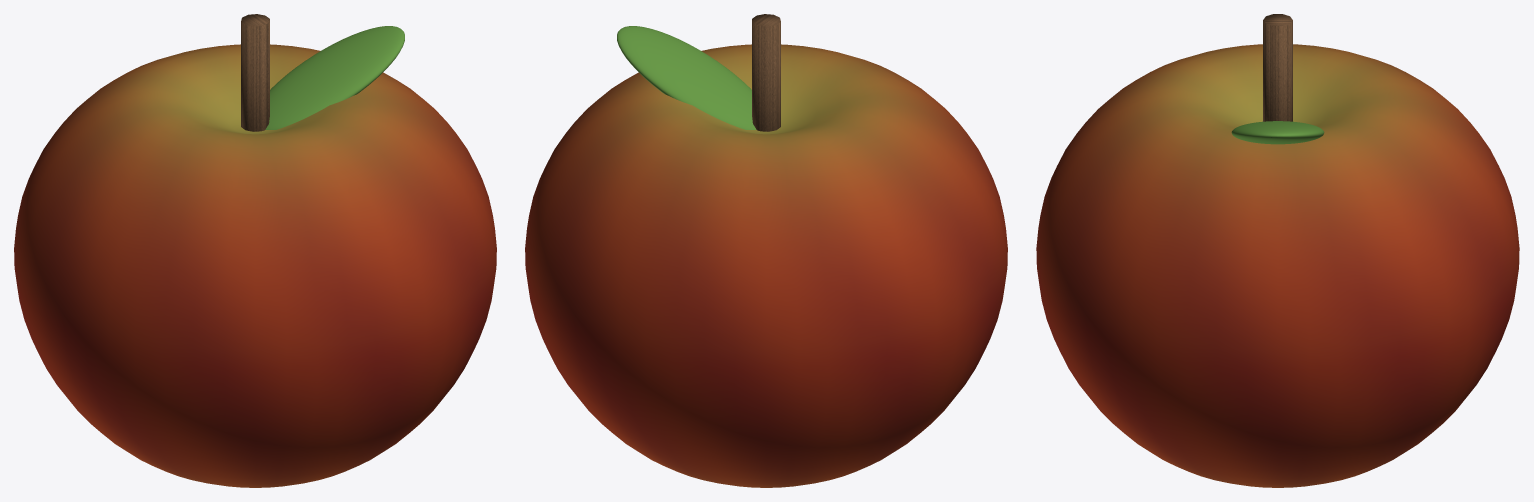
The model's file is apple.glb.
3 views of the same model, side by side, from view 1: azimuth 30°, elevation 25°; view 2: azimuth 150°, elevation 25°; view 3: azimuth 270°, elevation 25° (orthographic).
Parts seen in each view (by area): view 1: Apple, AppleLeaf, Stem; view 2: Apple, AppleLeaf, Stem; view 3: Apple, Stem, AppleLeaf.
Part boxes in pixels (x1=…): Apple: x1=14, y1=44, x2=496, y2=487; AppleLeaf: x1=265, y1=26, x2=404, y2=129; Stem: x1=241, y1=14, x2=269, y2=131; Apple: x1=525, y1=44, x2=1007, y2=487; AppleLeaf: x1=617, y1=26, x2=756, y2=129; Stem: x1=752, y1=14, x2=780, y2=131; Apple: x1=1036, y1=44, x2=1519, y2=487; Stem: x1=1263, y1=14, x2=1292, y2=121; AppleLeaf: x1=1231, y1=121, x2=1324, y2=144.
Bounding box in the file's own units: 0.2605 × 0.2558 × 0.2605.
Materials: 3 (1 with a texture image).
